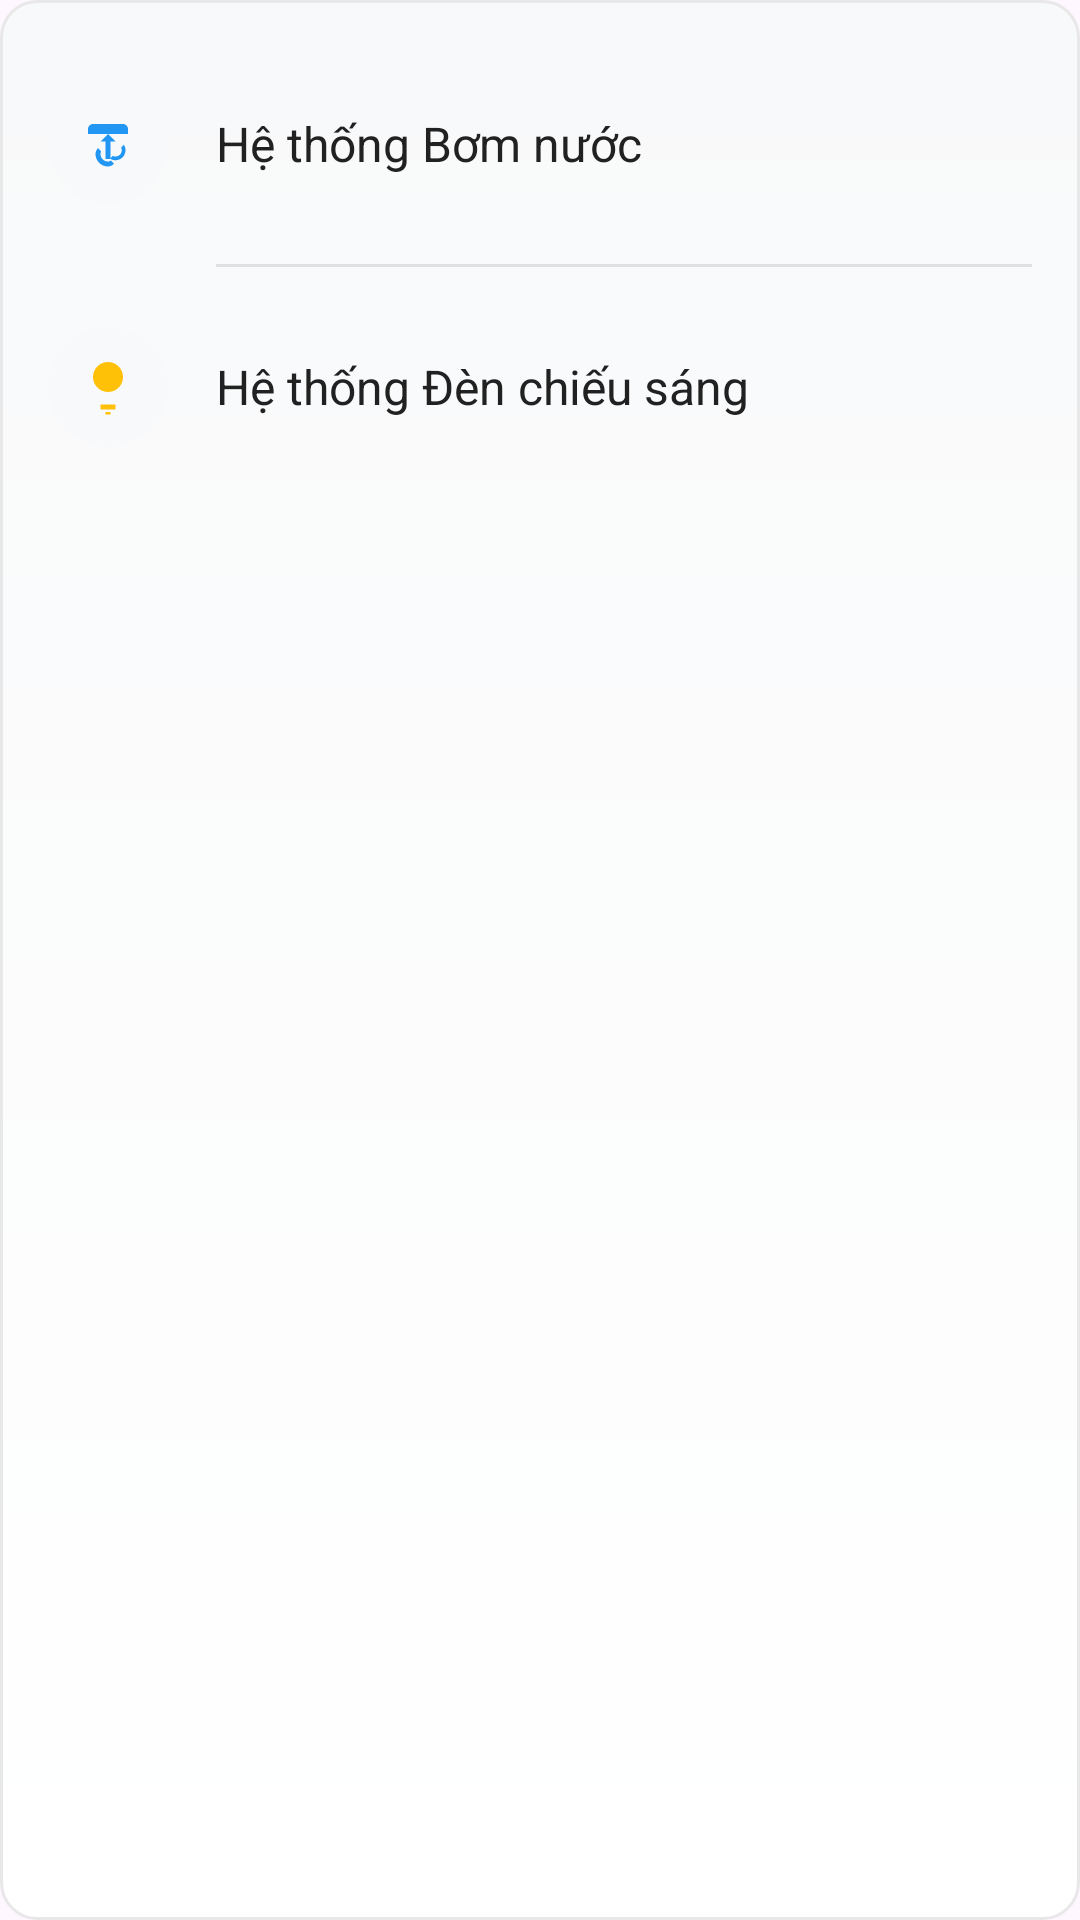

Where icons sit on this 1080w x 1920h app screen, as box=[x1, y1, x2, y2]:
Light: box=[93, 362, 123, 415]
